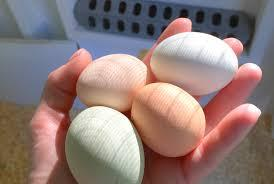egg: (66, 106, 144, 184), (130, 82, 206, 158), (151, 29, 235, 92), (78, 54, 149, 112)
